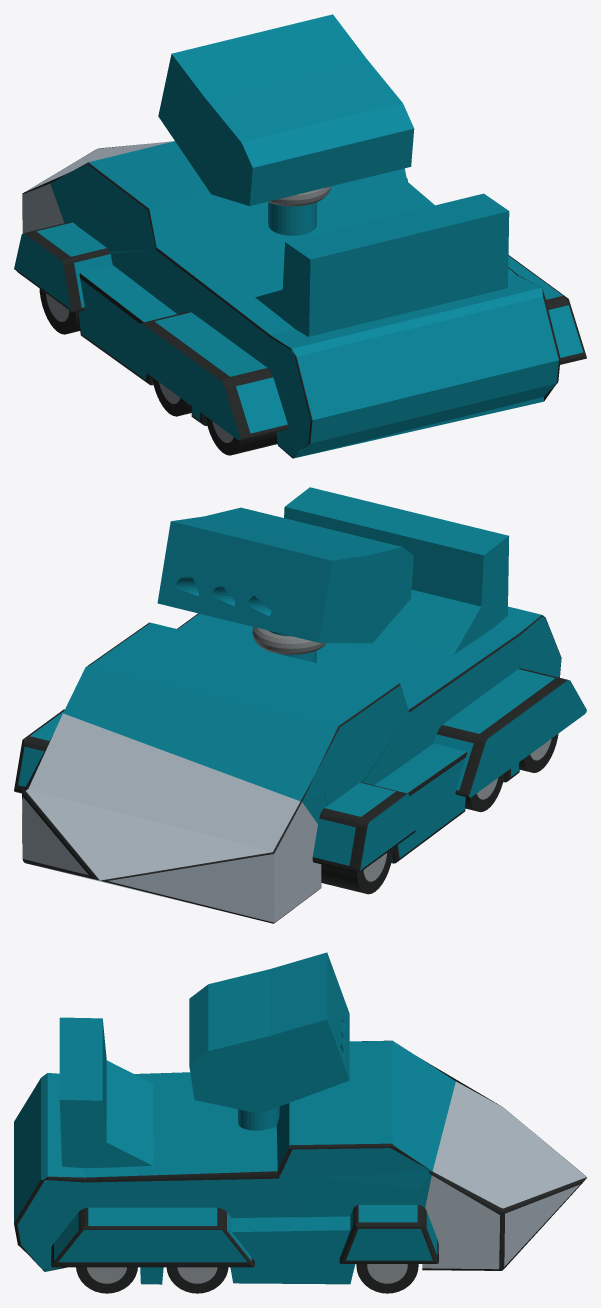
Rendered from darat 1c.fbx.
3 renders of one model, top to bottom at view 1: azimuth 30°, elevation 25°; view 2: azimuth 150°, elevation 25°; view 3: azimuth 270°, elevation 25°, orthographic. The views are drawn at different scales.
Parts seen in each view (by area): view 1: Circle; view 2: Circle; view 3: Circle.
Boxes of the visible parts, box(x1,y1,x2,y2) form: Circle: box(14, 14, 586, 458); Circle: box(14, 487, 586, 923); Circle: box(14, 952, 586, 1293).
Bounding box in the file's own units: 472 × 372 × 798.
